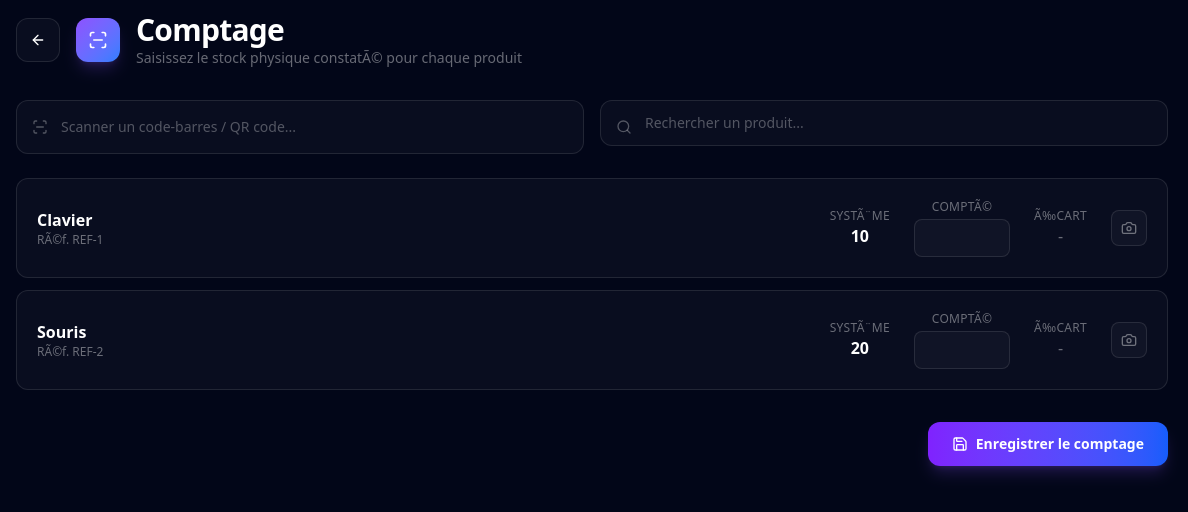
Test: Comptage › affiche un etat vide quand aucun produit ne correspond
This screenshot has width=1188, height=512.
Check: the text "Clavier" is shown, box [37,209,92,231]
Type "Inexistant" into the field with placeholder "Rechercher un produit...".
click(884, 123); type("Inexistant")  # box [600,100,1168,146]
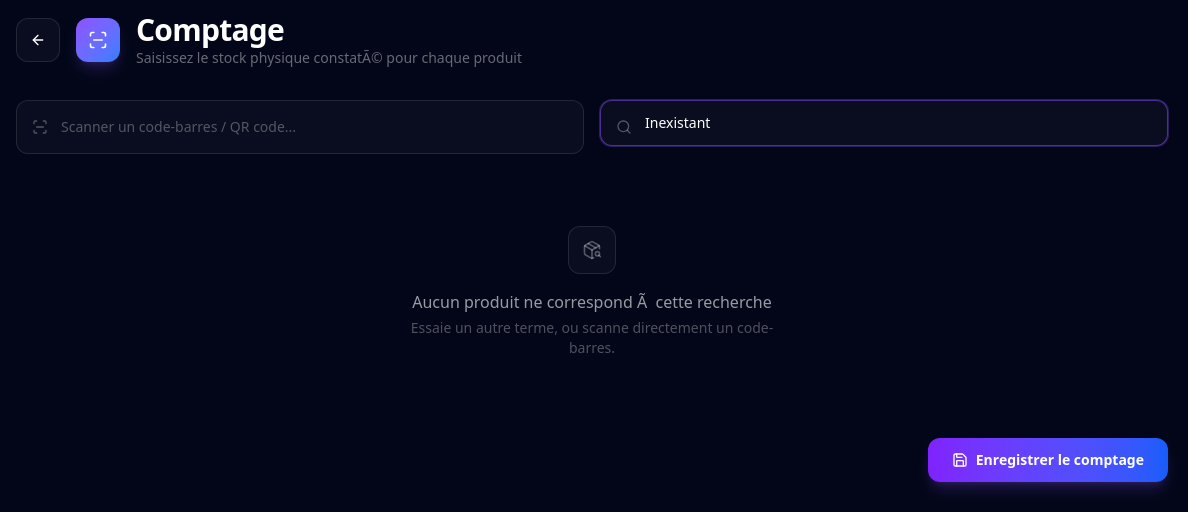
Check: the text "Aucun produit ne correspond Ã cette recherche" is shown, box [412,290,772,314]
